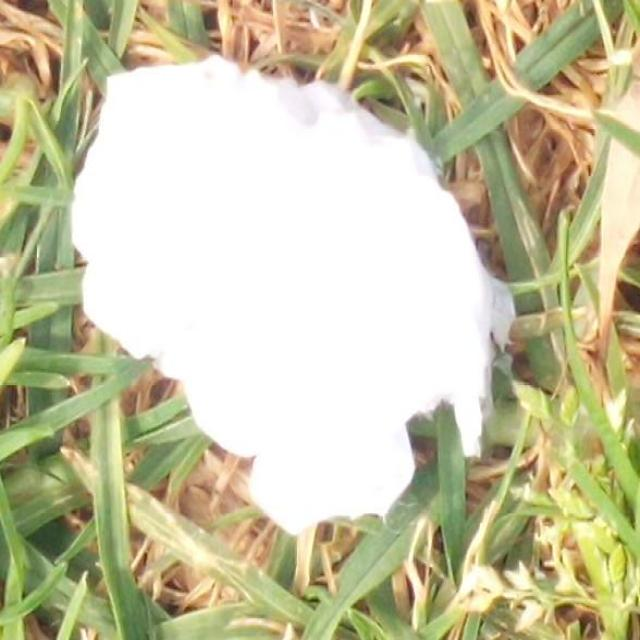litter: (72, 54, 490, 537)
